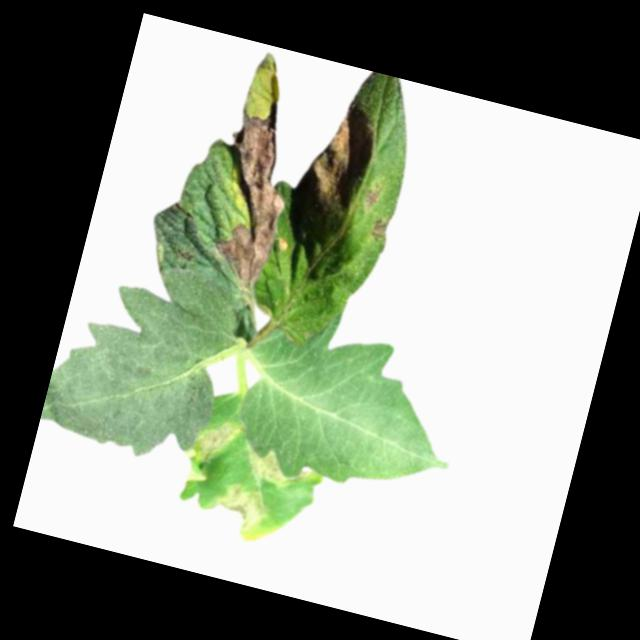Late_blight: (196, 93, 308, 287), (303, 97, 381, 219), (233, 441, 319, 497), (200, 477, 271, 541), (189, 414, 242, 476), (368, 215, 390, 244), (360, 186, 380, 211)
healthy: (220, 310, 474, 514), (37, 246, 255, 476)
